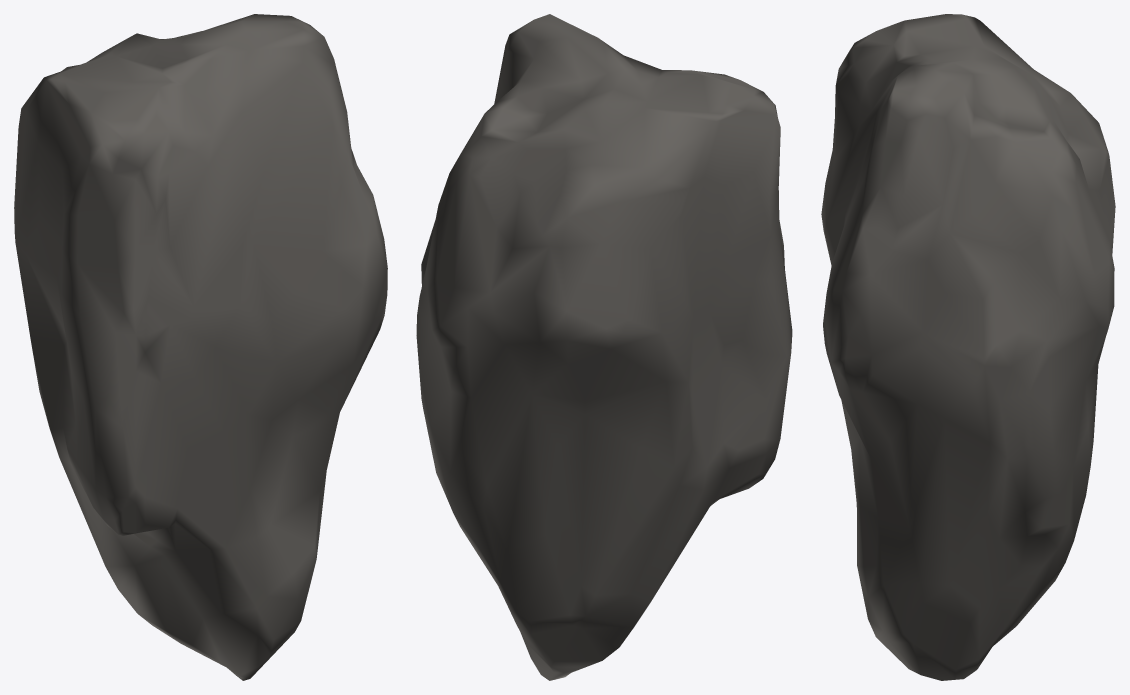
Rendered from CliffsAddition_01.fbx.
The picture shows the model from 3 angles, left to right: view 1: azimuth 30°, elevation 25°; view 2: azimuth 150°, elevation 25°; view 3: azimuth 270°, elevation 25°; orthographic projection. The views are drawn at different scales.
Visible parts, largest first — view 1: CliffsAddition_01; view 2: CliffsAddition_01; view 3: CliffsAddition_01.
Part boxes in pixels (box(x1,y1,x2,y2)): CliffsAddition_01: box(14, 14, 387, 680); CliffsAddition_01: box(416, 14, 792, 680); CliffsAddition_01: box(821, 14, 1115, 680).
Size of the model in its own units: 11510 by 22693 by 9893.
